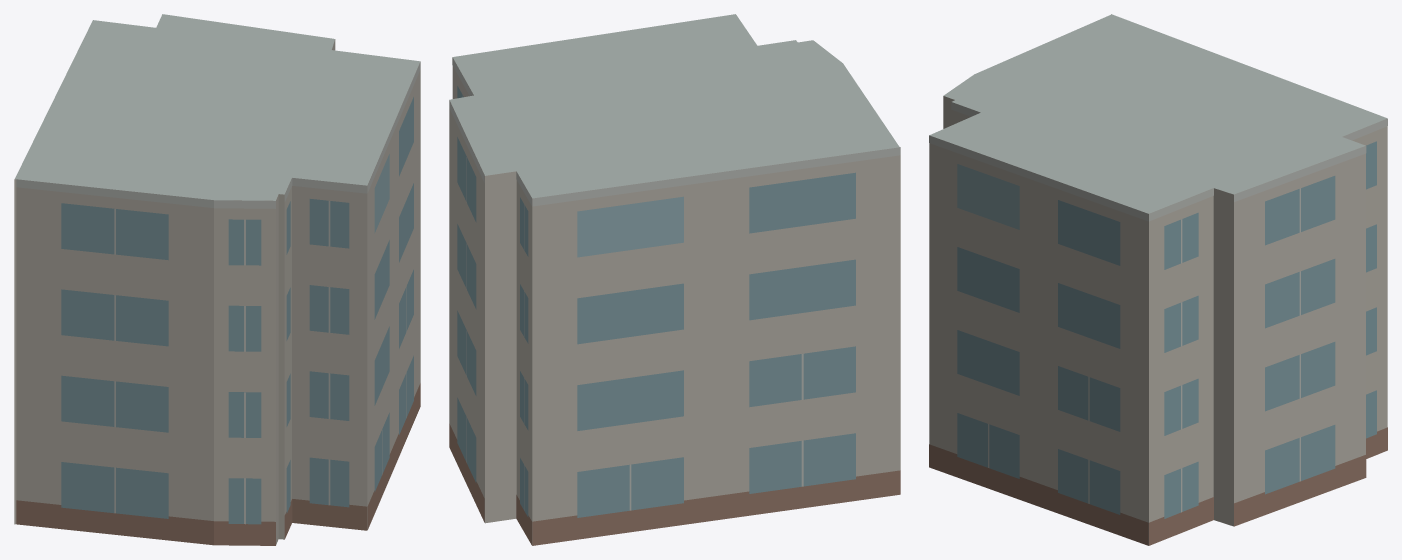
The model's file is survey-upis-32953996.glb.
3 renders of one model, left to right at view 1: azimuth 30°, elevation 25°; view 2: azimuth 150°, elevation 25°; view 3: azimuth 270°, elevation 25°, orthographic. The views are drawn at different scales.
Parts seen in each view (by area): view 1: survey-upis-32953996.tmp; view 2: survey-upis-32953996.tmp; view 3: survey-upis-32953996.tmp.
Boxes of the visible parts, <box> form: survey-upis-32953996.tmp: <box>14,14,420,545</box>; survey-upis-32953996.tmp: <box>449,14,900,545</box>; survey-upis-32953996.tmp: <box>929,14,1387,545</box>.
Size of the model in its own units: 13.56 by 10.5 by 13.15.
